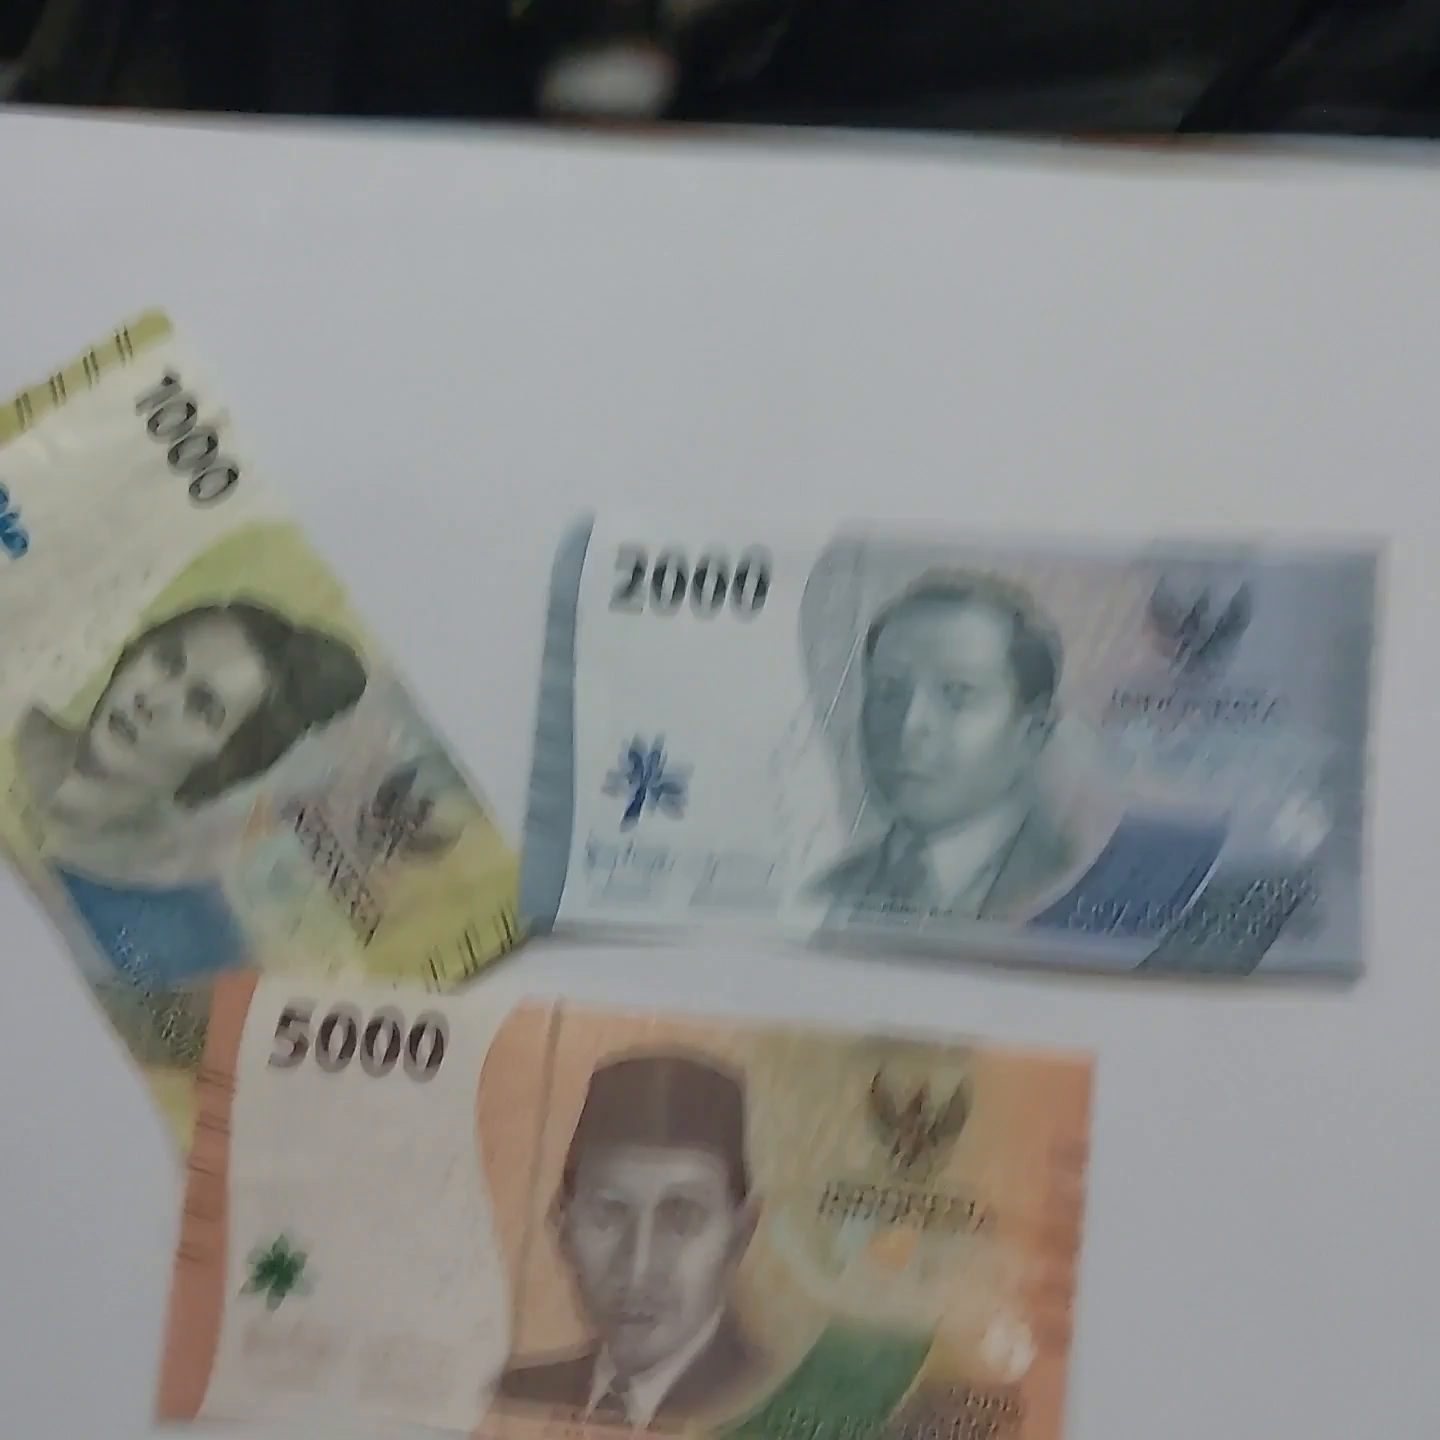1k: (0, 281, 545, 1039)
2k: (535, 467, 1391, 997)
5k: (131, 973, 1171, 1440)
